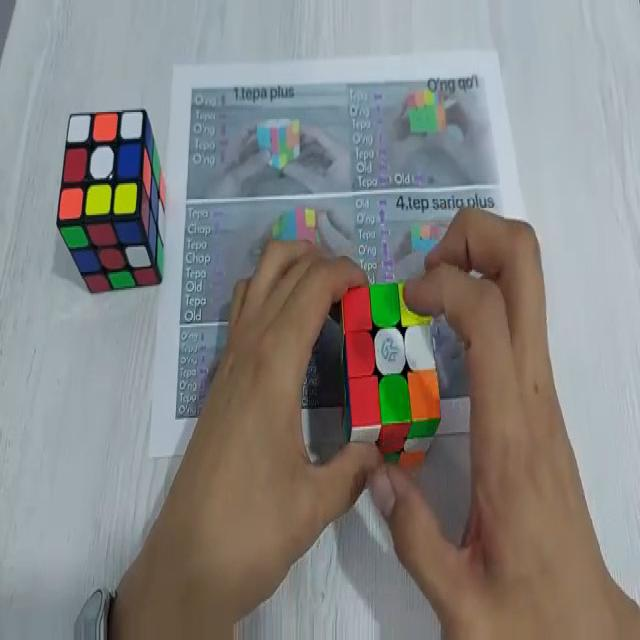Rub: (340, 278, 443, 472), (61, 106, 166, 292)
